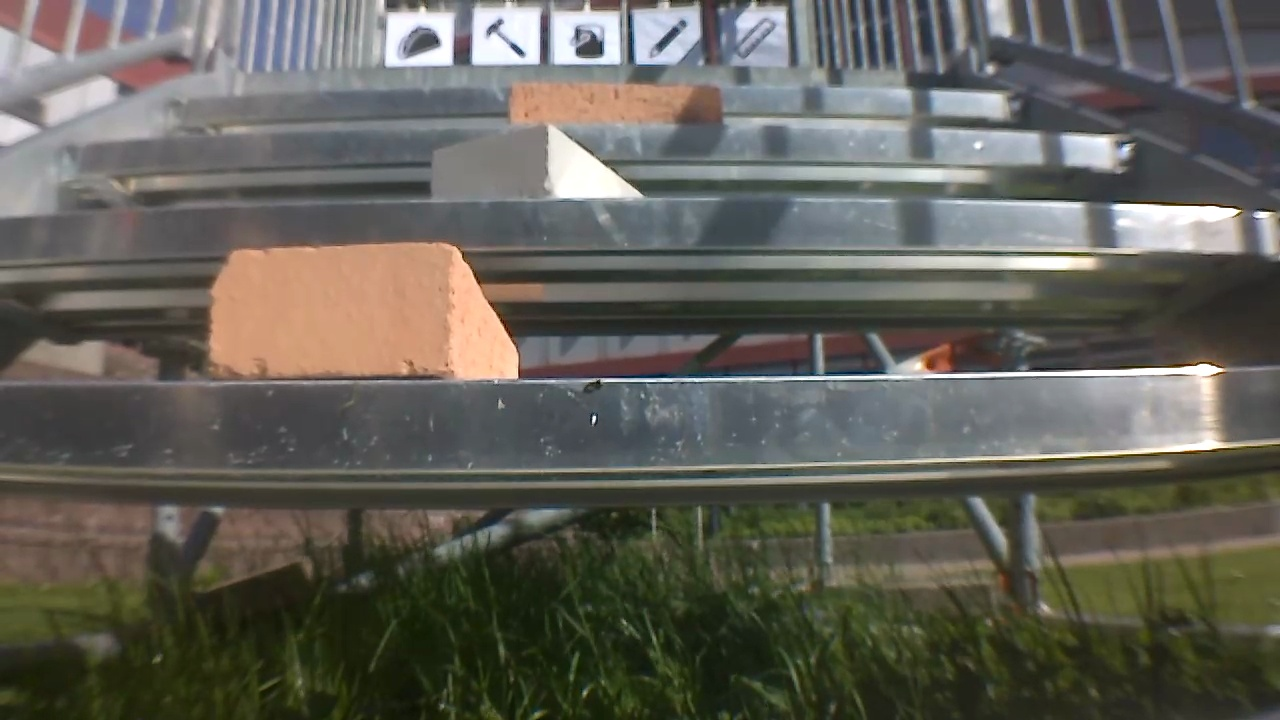brick: (183, 236, 533, 384), (445, 129, 642, 203), (506, 82, 728, 125)
bucket: (565, 23, 609, 62)
edge: (4, 360, 1280, 482), (0, 203, 1274, 272), (60, 116, 1161, 184), (164, 85, 1023, 110), (214, 72, 959, 80)
hammer: (482, 13, 523, 54)
pencil: (638, 17, 688, 54)
ruler: (736, 12, 779, 54)
steps: (11, 56, 1280, 514)
taco: (393, 24, 439, 57)
